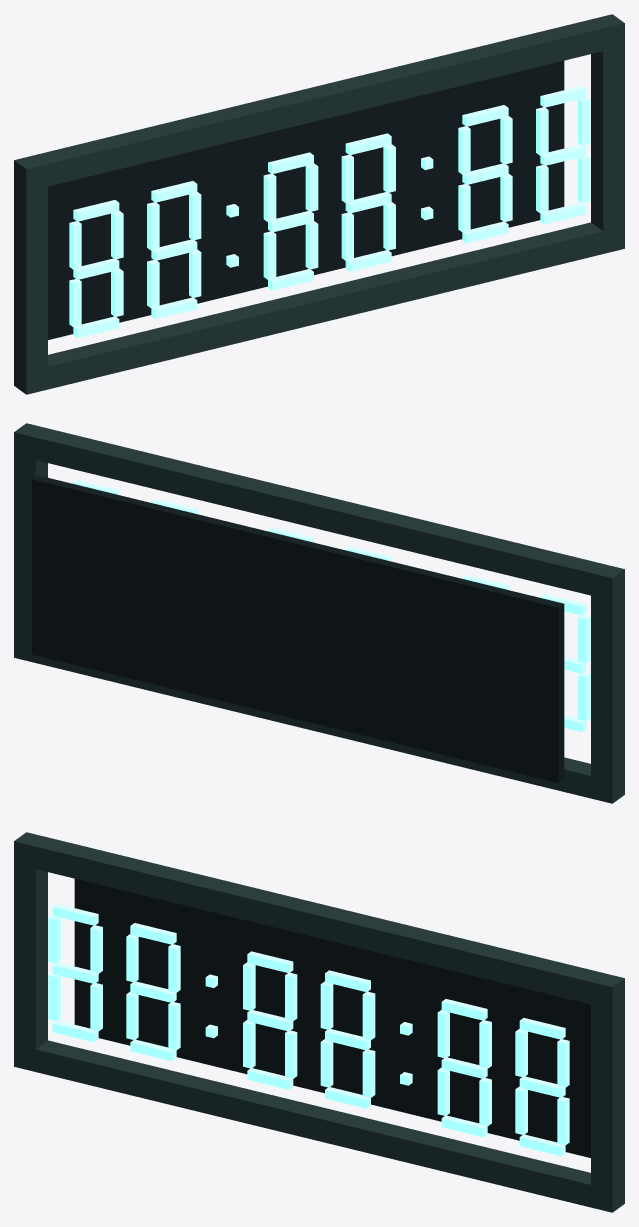
The picture shows the model from 3 angles, top to bottom: view 1: azimuth 30°, elevation 25°; view 2: azimuth 150°, elevation 25°; view 3: azimuth 330°, elevation 25°; orthographic projection.
Visible parts, largest first — view 1: digital-display-back, digital-frame-top, digital-frame-bottom, digital-frame-left, digital-frame-right, clock-digit-3-f, clock-digit-3-e, clock-digit-3-b, clock-digit-3-c, clock-digit-2-a, clock-digit-1-a, clock-digit-1-f (+35 smaller); view 2: digital-display-back, digital-frame-top, digital-frame-bottom, digital-frame-left, digital-frame-right, clock-digit-1-f, clock-digit-1-e; view 3: digital-display-back, digital-frame-top, digital-frame-bottom, digital-frame-right, digital-frame-left, clock-digit-4-b, clock-digit-4-c, clock-digit-4-f, clock-digit-4-e, clock-digit-5-a, clock-digit-1-a, clock-digit-2-a (+35 smaller).
Boxes of the visible parts, <box> form: digital-display-back: <box>48,61,564,339</box>; digital-frame-top: <box>14,14,624,191</box>; digital-frame-bottom: <box>14,222,624,394</box>; digital-frame-left: <box>14,183,47,372</box>; digital-frame-right: <box>591,46,624,231</box>; clock-digit-3-f: <box>263,173,276,222</box>; clock-digit-3-e: <box>263,231,276,279</box>; clock-digit-3-b: <box>305,163,318,211</box>; clock-digit-3-c: <box>305,221,318,269</box>; clock-digit-2-a: <box>151,181,197,202</box>; clock-digit-1-a: <box>73,200,119,221</box>; clock-digit-1-f: <box>69,221,81,269</box>; digital-display-back: <box>32,475,564,782</box>; digital-frame-top: <box>14,423,624,600</box>; digital-frame-bottom: <box>14,635,624,803</box>; digital-frame-left: <box>591,592,624,781</box>; digital-frame-right: <box>14,455,47,639</box>; clock-digit-1-f: <box>578,615,590,663</box>; clock-digit-1-e: <box>578,673,590,720</box>; digital-display-back: <box>74,879,590,1157</box>; digital-frame-top: <box>14,832,624,1009</box>; digital-frame-bottom: <box>14,1040,624,1212</box>; digital-frame-right: <box>591,1001,624,1190</box>; digital-frame-left: <box>14,864,47,1049</box>; clock-digit-4-b: <box>362,991,375,1040</box>; clock-digit-4-c: <box>362,1049,375,1097</box>; clock-digit-4-f: <box>320,981,333,1029</box>; clock-digit-4-e: <box>320,1039,333,1087</box>; clock-digit-5-a: <box>441,999,487,1020</box>; clock-digit-1-a: <box>52,904,98,925</box>; clock-digit-2-a: <box>130,923,176,944</box>.
Bounding box in the file's own units: 0.5 × 0.18 × 0.053.
